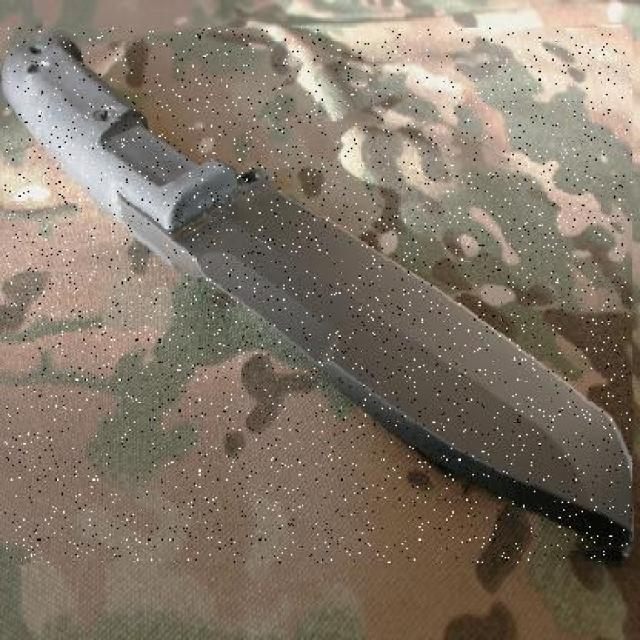knife: (4, 28, 632, 564)
